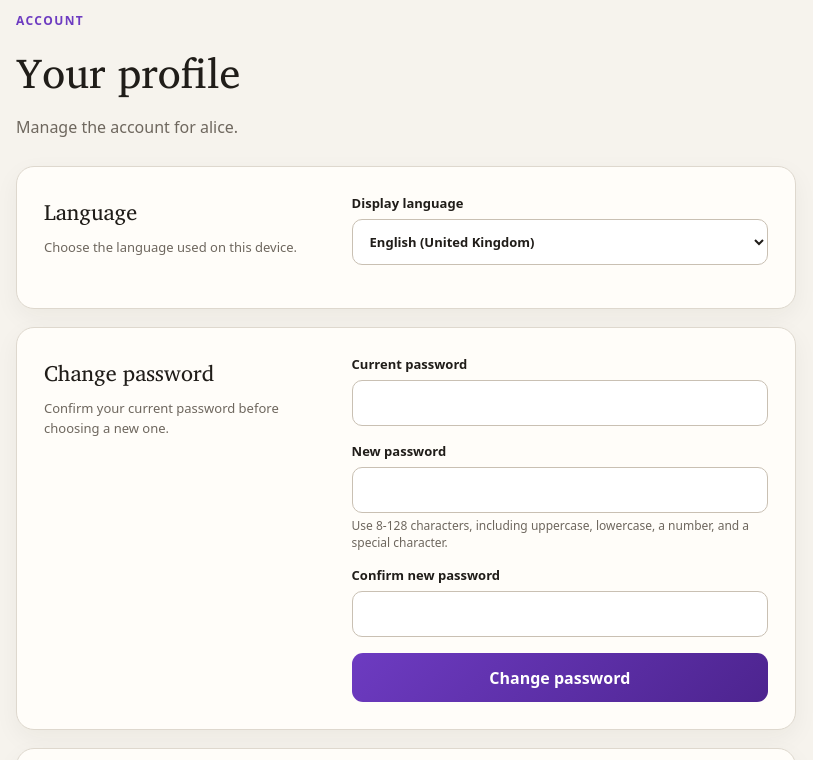
Test: validates password confirmation before submitting a password change
The width and height of the screenshot is (813, 760).
Type "current-password" into the password field labelled "Current password" at (560, 403), box [352, 380, 768, 426]
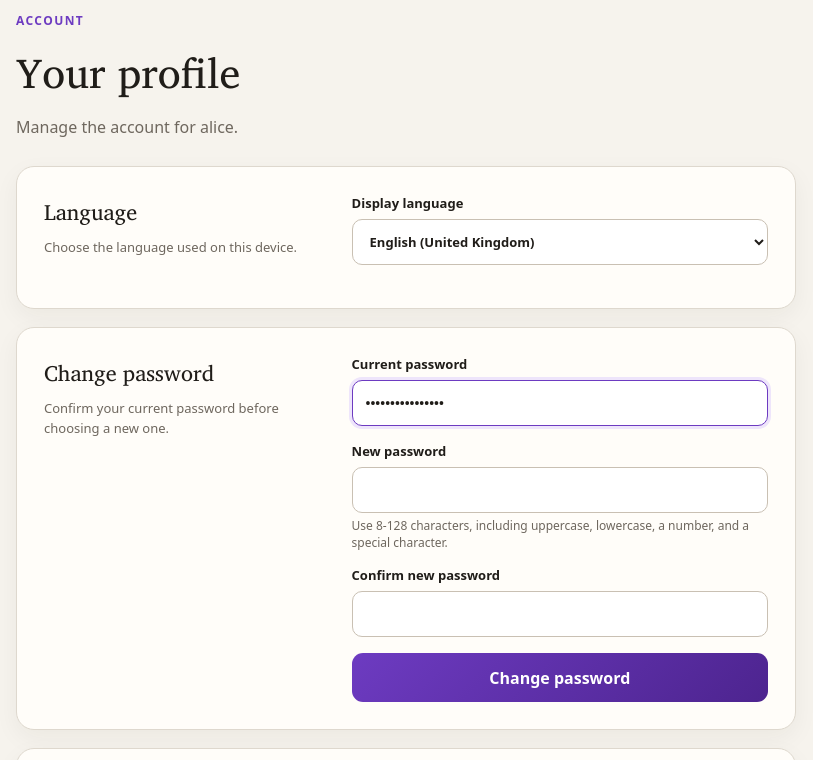
Type "StrongPassword1!" into the password field labelled "New password" at (560, 490), box [352, 467, 768, 513]
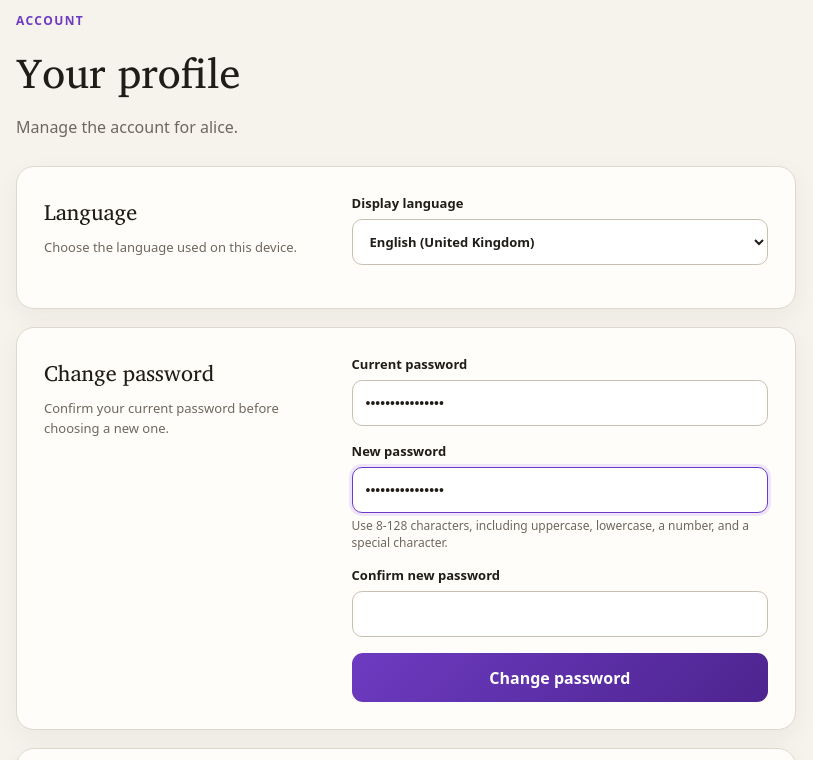
Type "DifferentPassword1!" into the password field labelled "Confirm new password" at (560, 614), box [352, 591, 768, 637]
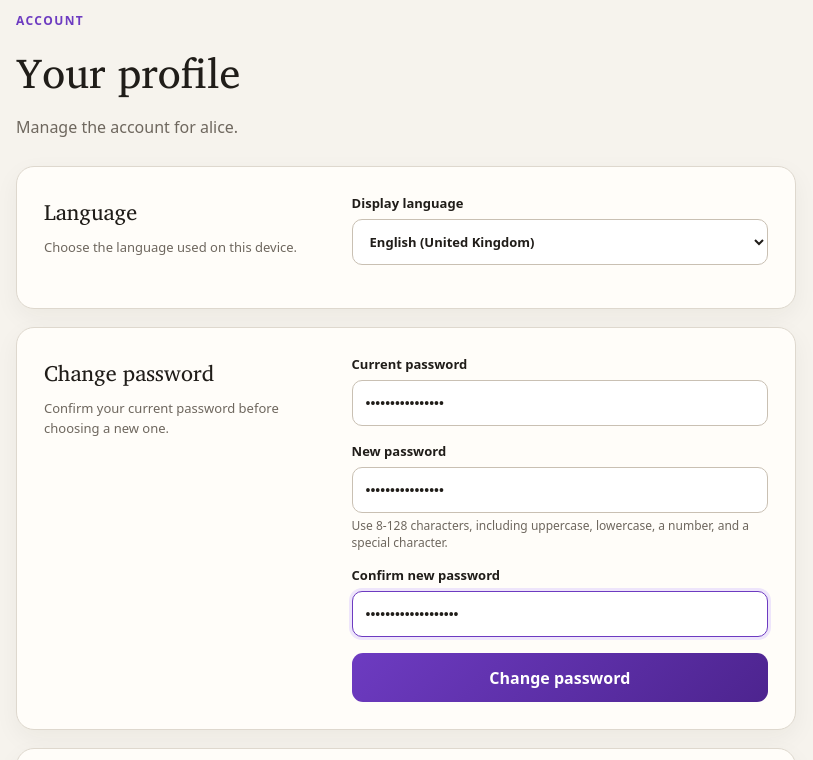
Click the button "Change password" at (560, 678), box [352, 653, 768, 702]
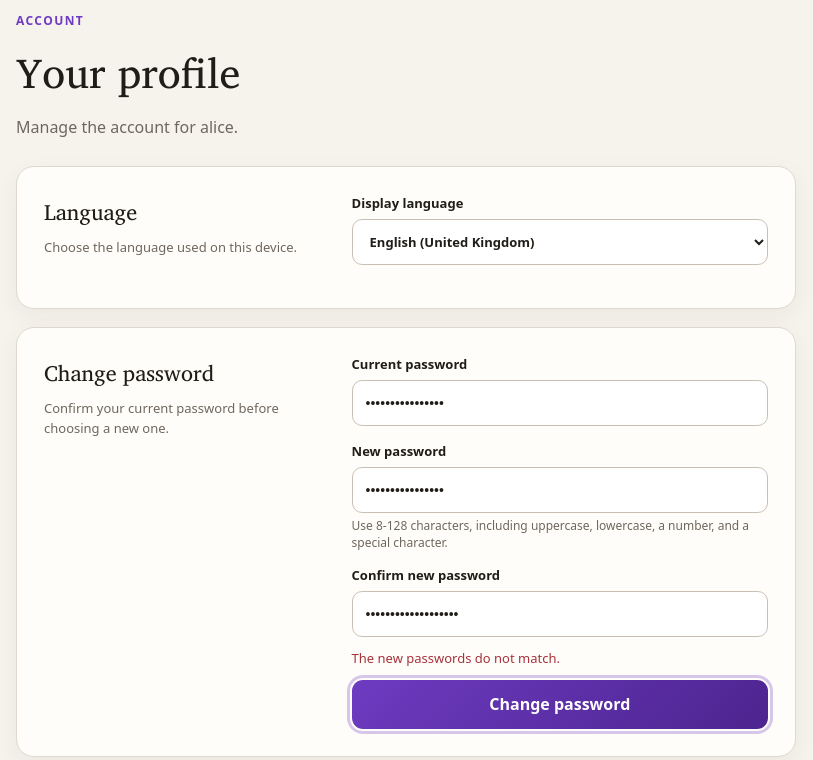
Check: the message shows "do not match", box [352, 649, 560, 667]
